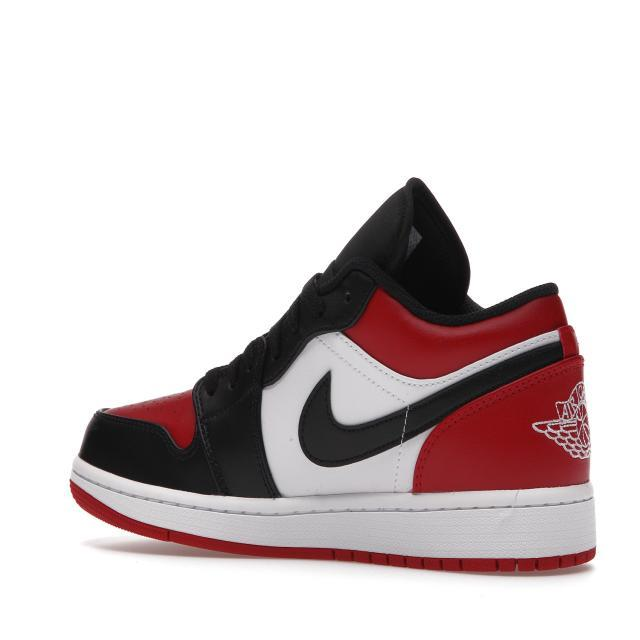J1_InsoleChar: (67, 175, 598, 576)
J1_ShoeLogo: (531, 380, 591, 461)
J1_StitchPattern: (67, 459, 598, 573), (293, 322, 570, 470), (67, 464, 596, 520), (201, 256, 384, 408), (328, 545, 597, 574), (319, 332, 408, 405), (189, 378, 232, 497), (389, 401, 412, 497)
